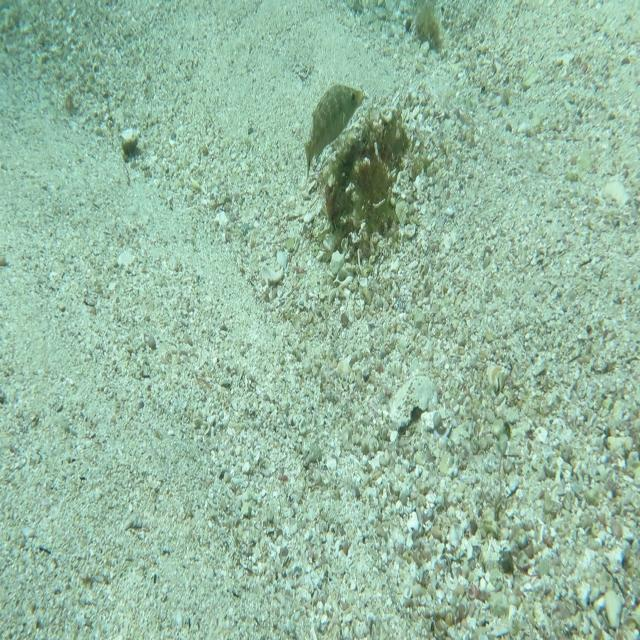AM: (302, 84, 364, 182)
core_nest: (371, 127, 402, 164)
nest: (321, 98, 419, 242)
nest_material: (362, 92, 369, 101)
vegetation: (415, 0, 446, 53), (120, 136, 140, 162)
